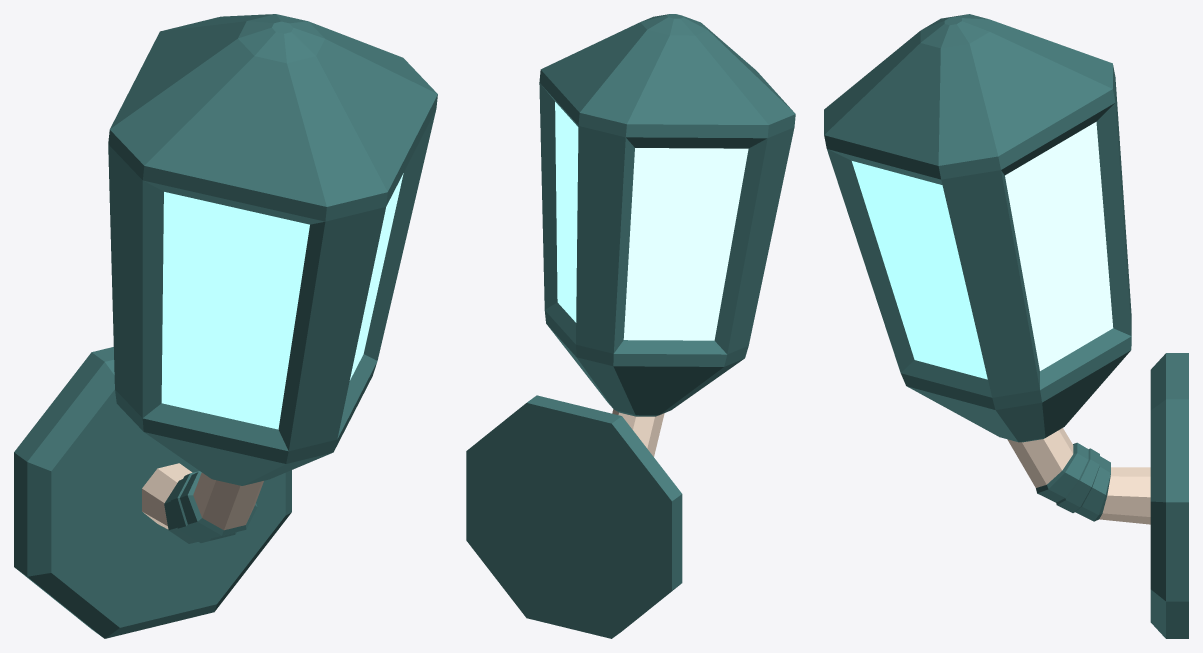
Rendered from Lamp_Wall_Aridite.fbx.
The picture shows the model from 3 angles, left to right: view 1: azimuth 30°, elevation 25°; view 2: azimuth 150°, elevation 25°; view 3: azimuth 270°, elevation 25°; orthographic projection. The views are drawn at different scales.
Visible parts, largest first — view 1: AriditeLamp_Wall_LOD0; view 2: AriditeLamp_Wall_LOD0; view 3: AriditeLamp_Wall_LOD0.
Boxes of the visible parts, <box> form: AriditeLamp_Wall_LOD0: <box>14,14,437,638</box>; AriditeLamp_Wall_LOD0: <box>466,14,795,638</box>; AriditeLamp_Wall_LOD0: <box>824,14,1188,638</box>.
Size of what is drawn, in the model's own units: 0.1921 by 0.4311 by 0.2391.
